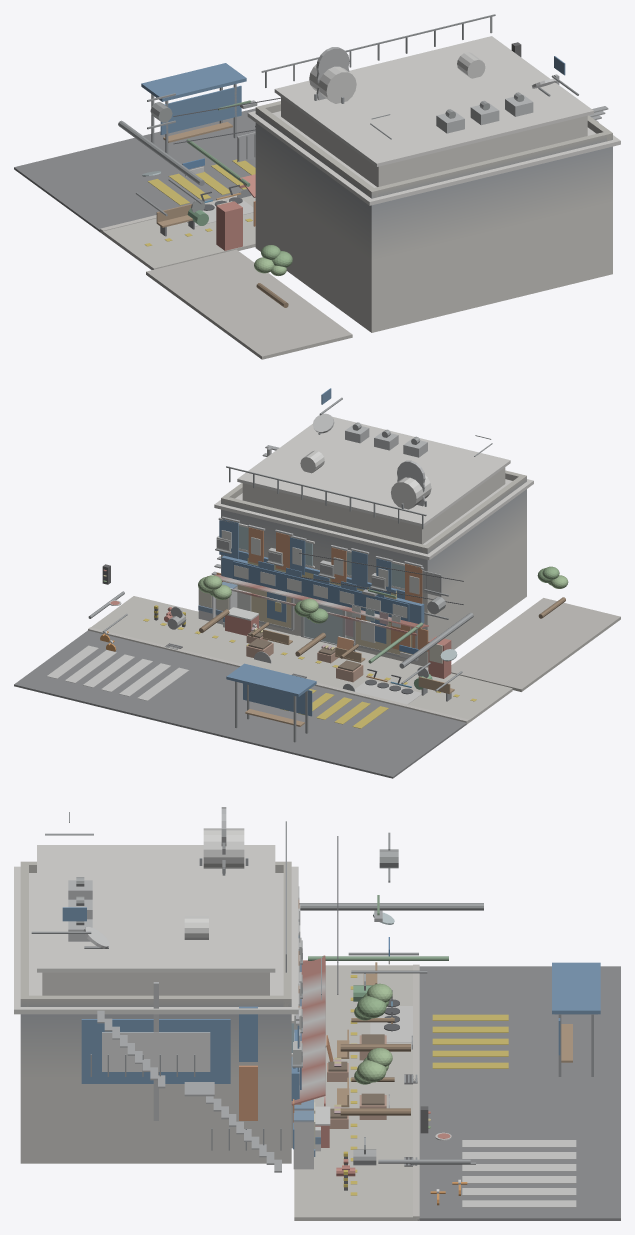
The model's file is store06_v6.glb.
3 renders of one model, top to bottom at view 1: azimuth 30°, elevation 25°; view 2: azimuth 150°, elevation 25°; view 3: azimuth 270°, elevation 25°, orthographic. The views are drawn at different scales.
Visible parts, largest first — view 1: geometry_0; view 2: geometry_0; view 3: geometry_0.
Boxes of the visible parts, <box> form: geometry_0: <box>14,14,620,359</box>; geometry_0: <box>14,388,620,778</box>; geometry_0: <box>14,807,620,1220</box>.
Bounding box in the file's own units: 22.45 × 10.29 × 22.4.
